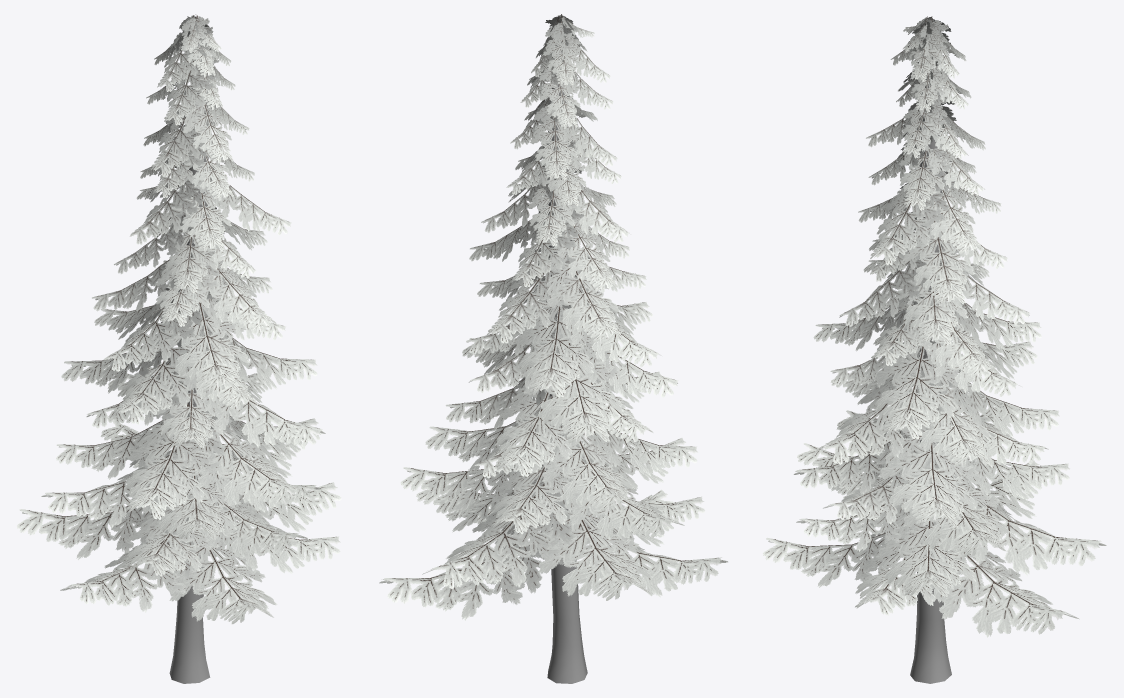
The model's file is Environment_Folliage_PineTree.fbx.
3 renders of one model, left to right at view 1: azimuth 30°, elevation 25°; view 2: azimuth 150°, elevation 25°; view 3: azimuth 270°, elevation 25°, orthographic.
Parts seen in each view (by area): view 1: PineTree_LeaveDeck, Pine_Tree; view 2: PineTree_LeaveDeck, Pine_Tree; view 3: PineTree_LeaveDeck, Pine_Tree.
Boxes of the visible parts, left/top/right/bottom form: PineTree_LeaveDeck: left=17, top=14, right=341, bottom=624; Pine_Tree: left=169, top=44, right=210, bottom=683; PineTree_LeaveDeck: left=379, top=14, right=727, bottom=620; Pine_Tree: left=546, top=43, right=587, bottom=683; PineTree_LeaveDeck: left=762, top=16, right=1106, bottom=637; Pine_Tree: left=910, top=51, right=951, bottom=683.
Size of the model in its own units: 2.77 by 6.01 by 2.88.
Materials: 2 (1 with a texture image).
